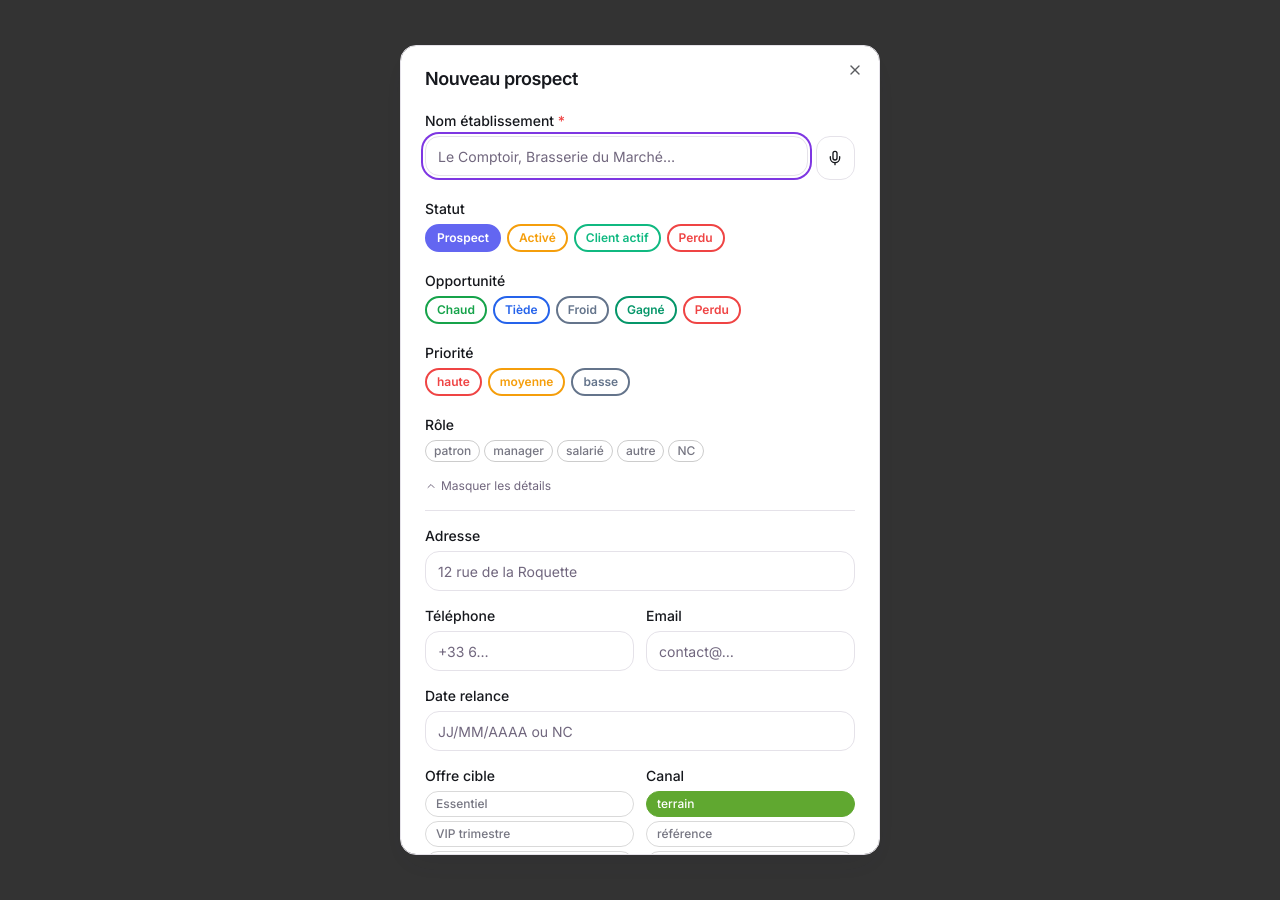
Test: AddClientDialog › affiche une erreur de dictee lorsque le micro est refuse
What coordinates should you click on to do the following:
click the button "Dicter les champs"
I would click on:
 (835, 158)
Its box is [816,136,855,180].
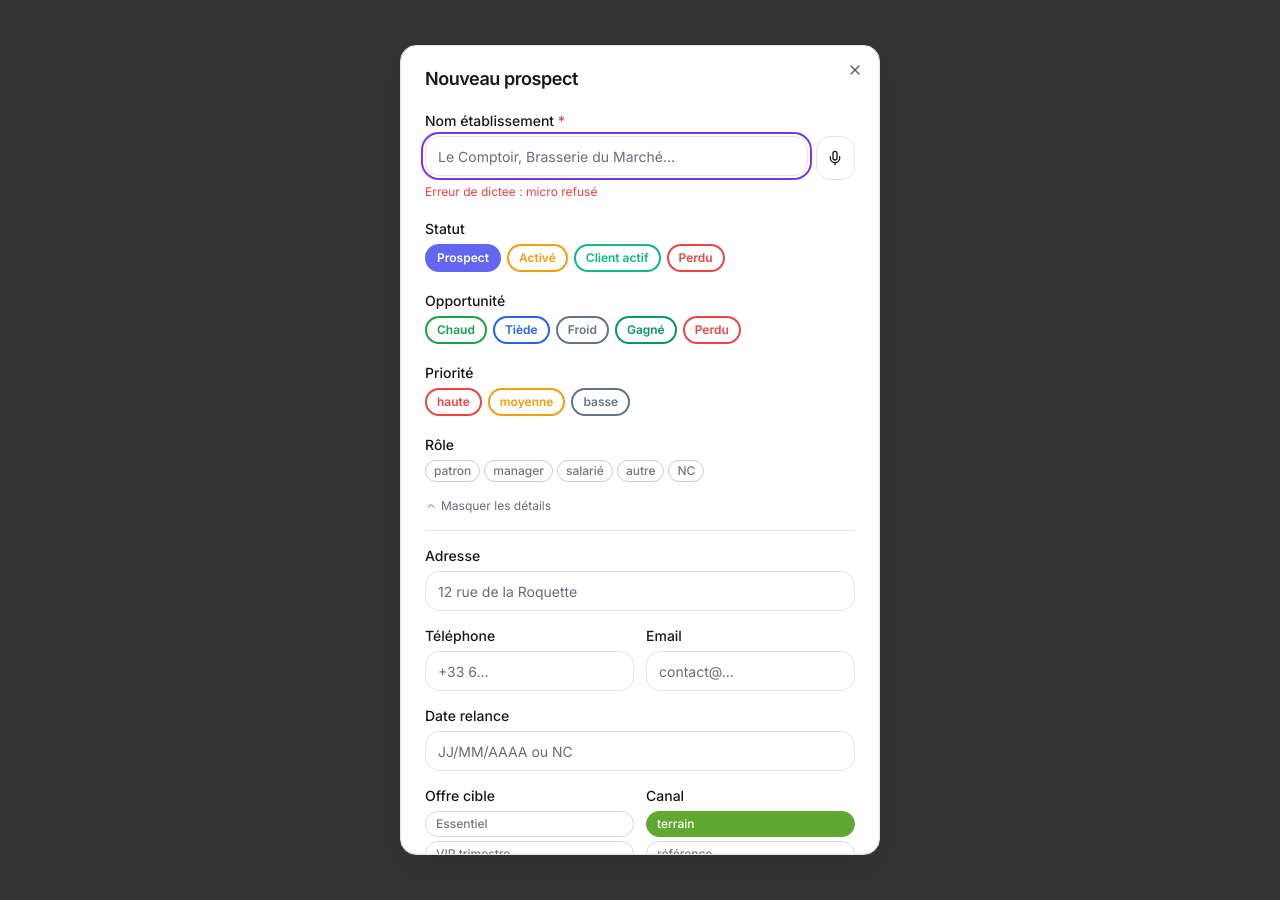
Expected: the text "Erreur de dictee : micro refusé" is shown, [425,184,597,199]
